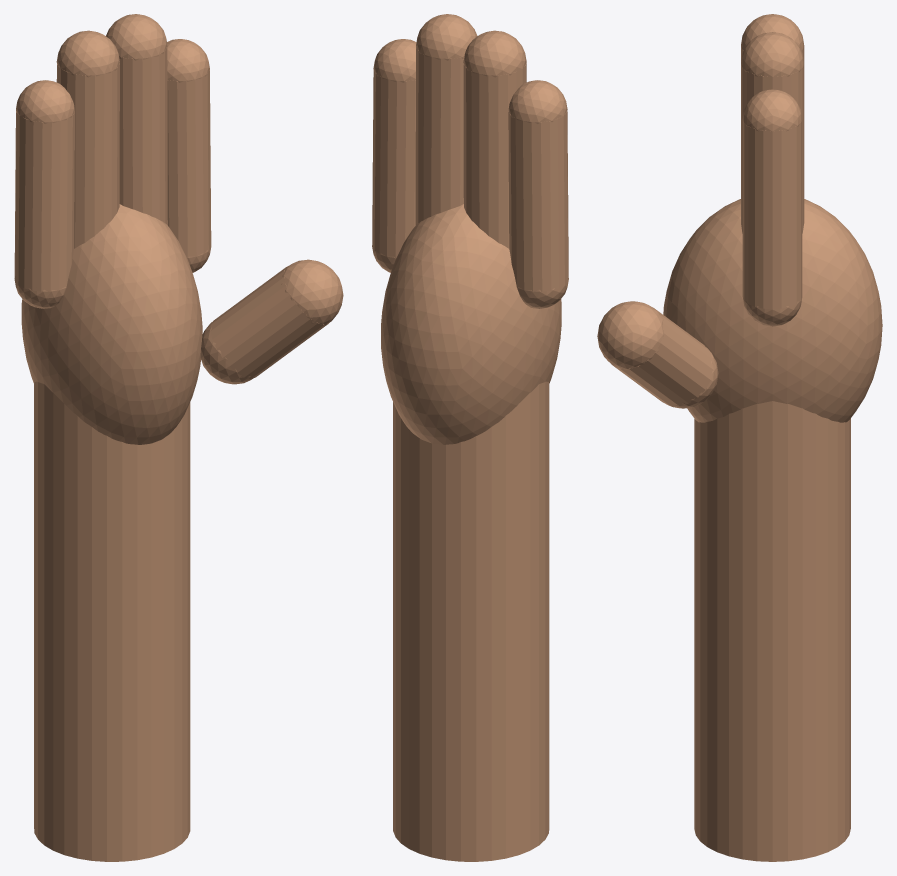
File: brother-hand.glb
3 renders of one model, left to right at view 1: azimuth 30°, elevation 25°; view 2: azimuth 150°, elevation 25°; view 3: azimuth 270°, elevation 25°, orthographic.
Parts seen in each view (by area): view 1: part_0, part_1, part_2, part_8, part_5, part_11, part_14, part_16, part_7, part_10, part_4, part_13 (+2 smaller); view 2: part_0, part_1, part_2, part_5, part_8, part_11, part_7, part_10, part_4, part_13, part_3; view 3: part_0, part_1, part_11, part_14, part_16, part_10, part_8, part_13, part_7, part_12.
Boxes of the visible parts, x1=… form: part_0: x1=34, y1=381, x2=190, y2=861; part_1: x1=21, y1=204, x2=202, y2=444; part_2: x1=14, y1=111, x2=74, y2=291; part_8: x1=119, y1=47, x2=167, y2=225; part_5: x1=56, y1=63, x2=119, y2=248; part_11: x1=167, y1=69, x2=211, y2=257; part_14: x1=210, y1=266, x2=328, y2=378; part_16: x1=281, y1=259, x2=343, y2=325; part_7: x1=56, y1=30, x2=119, y2=77; part_10: x1=106, y1=14, x2=167, y2=60; part_4: x1=16, y1=80, x2=74, y2=123; part_13: x1=167, y1=39, x2=209, y2=82; part_0: x1=393, y1=381, x2=549, y2=861; part_1: x1=381, y1=204, x2=561, y2=444; part_2: x1=508, y1=110, x2=568, y2=291; part_5: x1=463, y1=63, x2=526, y2=248; part_8: x1=415, y1=47, x2=463, y2=225; part_11: x1=372, y1=70, x2=415, y2=257; part_7: x1=463, y1=30, x2=526, y2=77; part_10: x1=416, y1=14, x2=477, y2=60; part_4: x1=508, y1=80, x2=567, y2=123; part_13: x1=373, y1=39, x2=416, y2=82; part_3: x1=517, y1=278, x2=568, y2=308; part_0: x1=694, y1=401, x2=850, y2=861; part_1: x1=663, y1=199, x2=882, y2=422; part_11: x1=742, y1=119, x2=802, y2=309; part_14: x1=612, y1=307, x2=713, y2=406; part_16: x1=597, y1=301, x2=663, y2=369; part_10: x1=741, y1=32, x2=804, y2=76; part_8: x1=741, y1=64, x2=804, y2=233; part_13: x1=742, y1=89, x2=802, y2=131; part_7: x1=741, y1=14, x2=804, y2=50; part_12: x1=743, y1=297, x2=802, y2=326.
Bounding box in the file's own units: 1.67 × 5.15 × 1.65.
